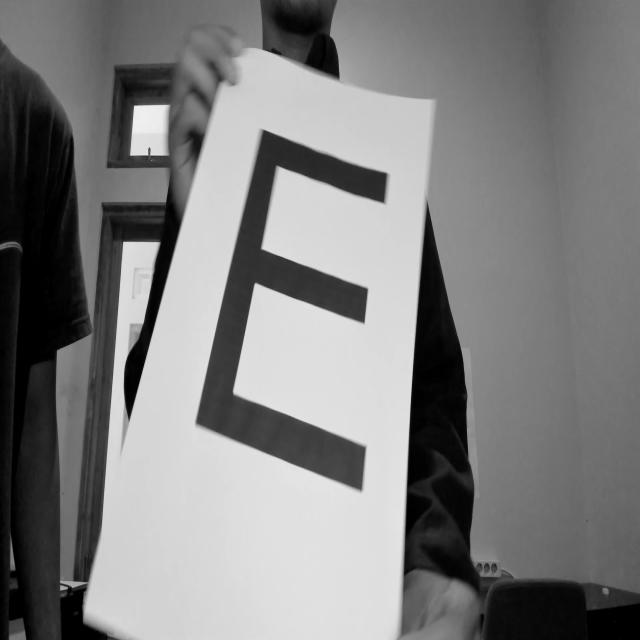e: (190, 120, 394, 507)
